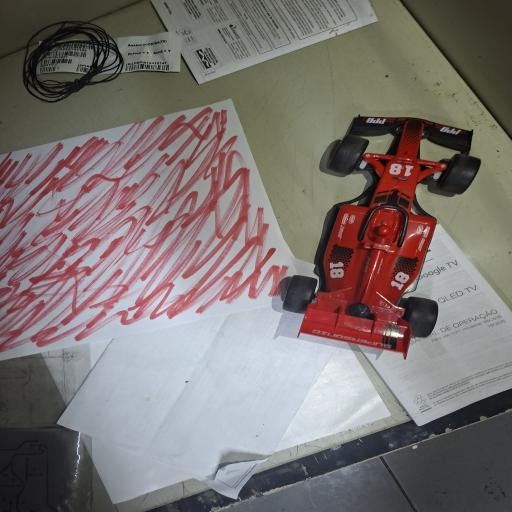carro: (281, 117, 480, 357)
